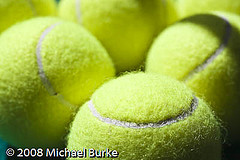tennis ball: (1, 16, 116, 149), (66, 72, 223, 160), (145, 11, 240, 143), (58, 1, 183, 73)
